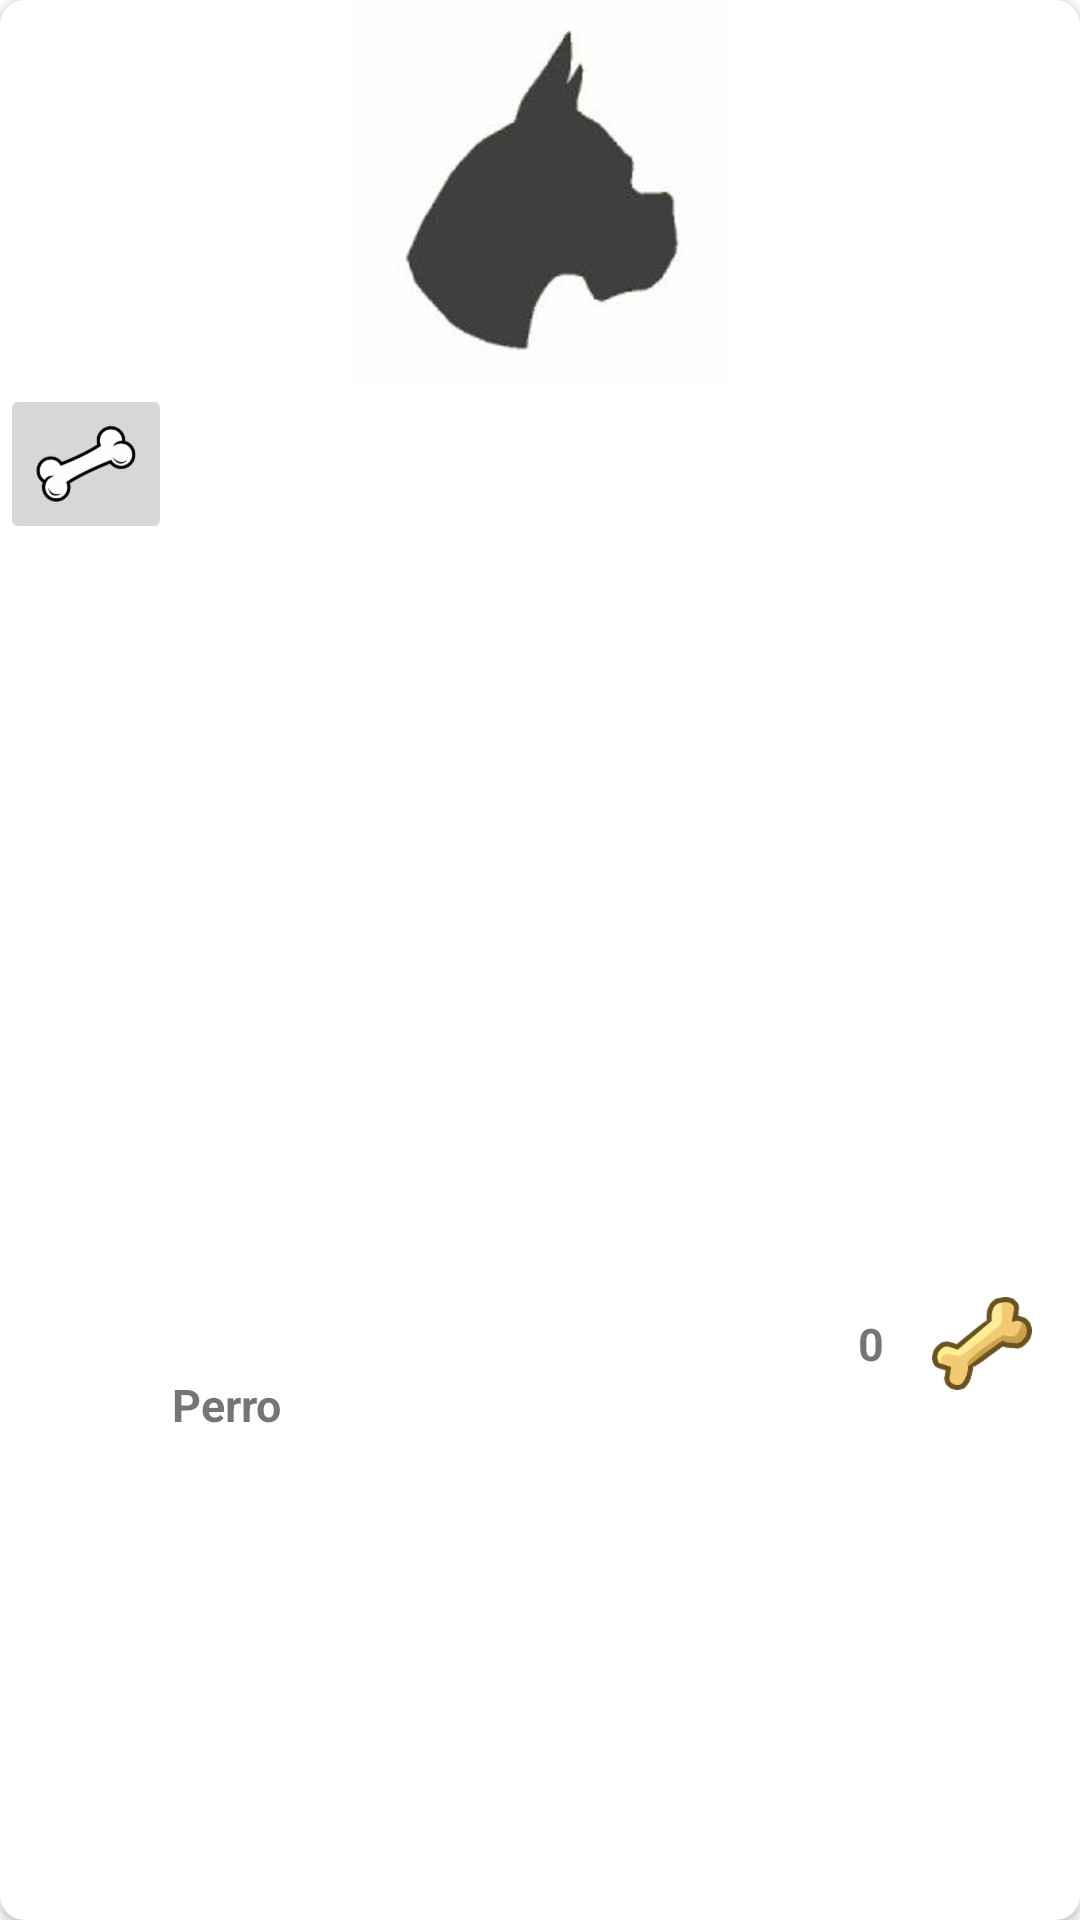

Icons on this 1080 × 1920 Android screen, each with its box as (x1, y1, x2, y2):
hueso: (12, 402, 160, 526), (932, 1297, 1032, 1390)
